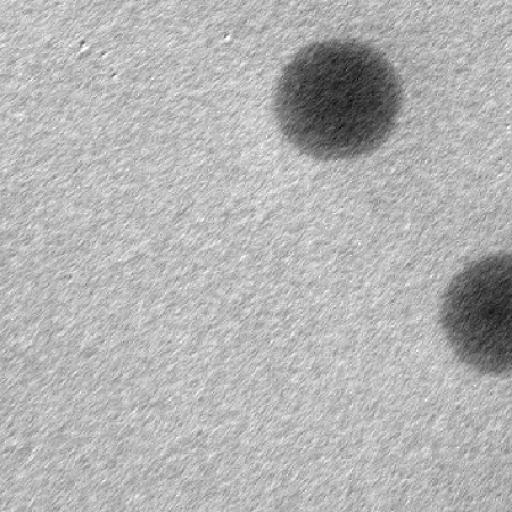Nanoparticles: (272, 36, 402, 158), (441, 251, 510, 375)
